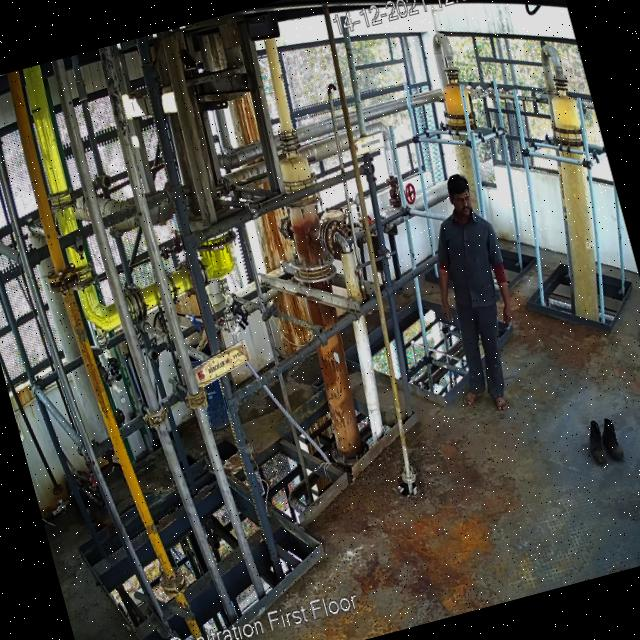boots: (580, 416, 614, 468), (598, 416, 627, 462)
no-boots: (458, 387, 486, 407), (489, 393, 510, 416)
